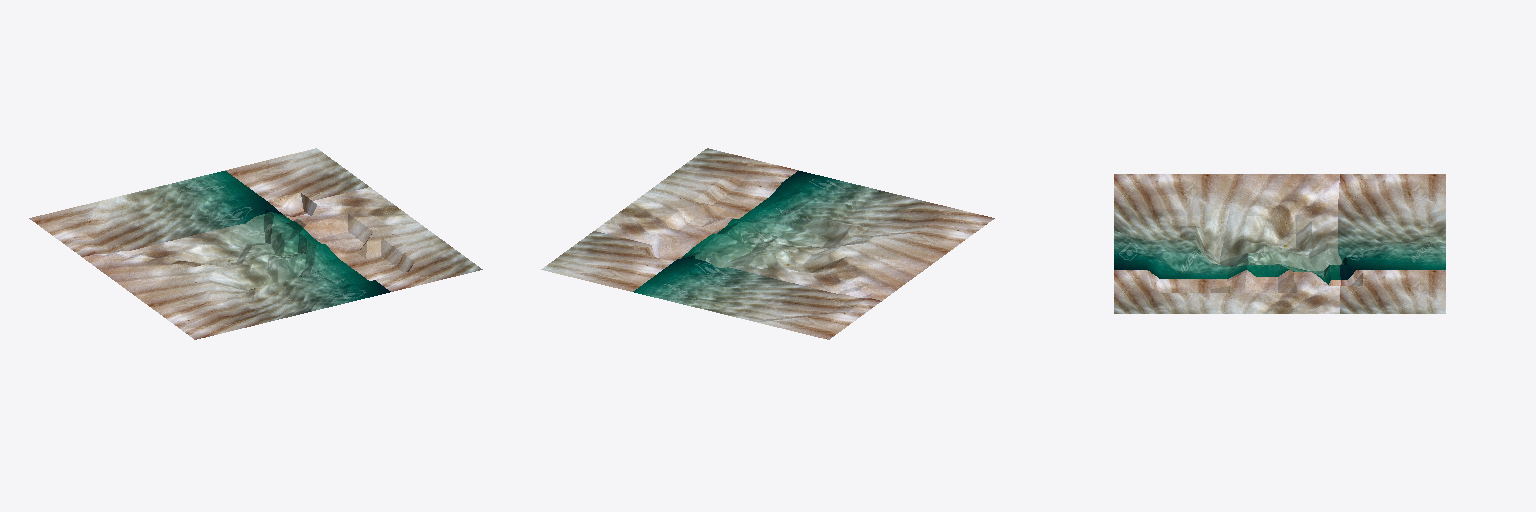
3 renders of one model, left to right at view 1: azimuth 30°, elevation 25°; view 2: azimuth 150°, elevation 25°; view 3: azimuth 270°, elevation 25°, orthographic.
Visible parts, largest first — view 1: pPlane1; view 2: pPlane1; view 3: pPlane1.
Boxes of the visible parts, box(x1,y1,x2,y2) form: pPlane1: box(29, 148, 482, 339); pPlane1: box(541, 148, 994, 339); pPlane1: box(1114, 174, 1445, 313).
Size of the model in its own units: 30.37 by 2.41 by 30.37.
Materials: 1 (1 with a texture image).